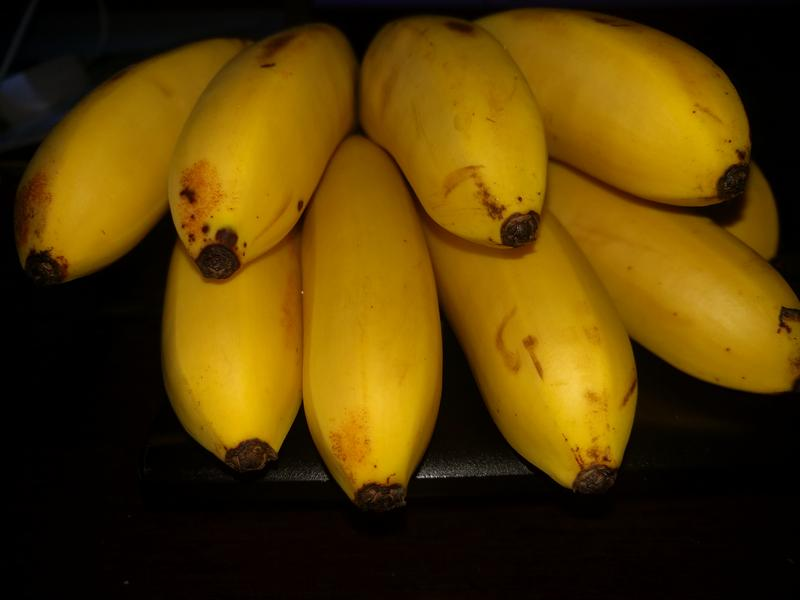banana: (5, 9, 800, 500)
